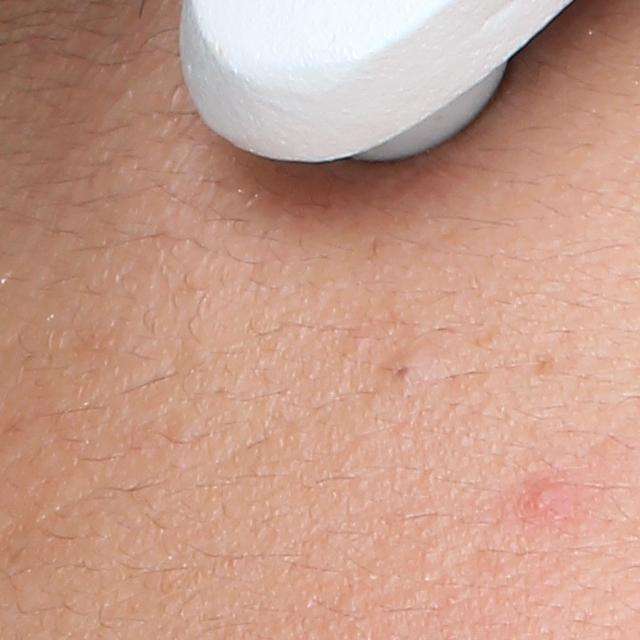comedo: (378, 353, 420, 391)
